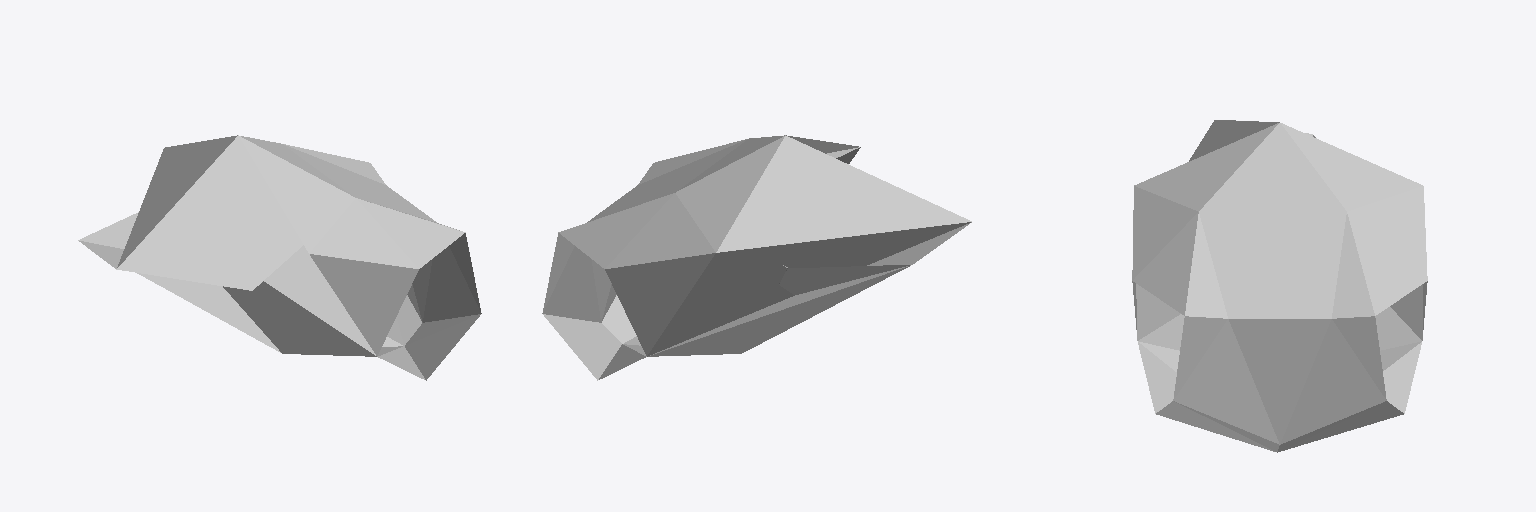
File: gibdo.obj
3 views of the same model, side by side, from view 1: azimuth 30°, elevation 25°; view 2: azimuth 150°, elevation 25°; view 3: azimuth 270°, elevation 25° (orthographic).
Visible parts, largest first — view 1: 0x44C0; view 2: 0x44C0; view 3: 0x44C0.
Boxes of the visible parts, x1=… form: 0x44C0: x1=78, y1=135, x2=481, y2=380; 0x44C0: x1=542, y1=135, x2=971, y2=380; 0x44C0: x1=1132, y1=120, x2=1427, y2=452.
Bounding box in the file's own units: 2.19 × 1.52 × 1.62.